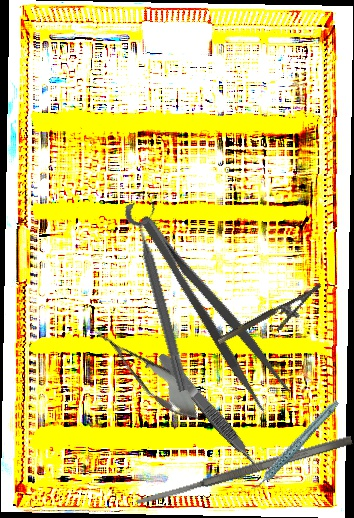Dressing Forceps: (133, 200, 294, 415)
Fixation Ring: (122, 197, 206, 394)
Handpiece: (234, 398, 354, 492)
Micro Scissor: (84, 316, 212, 432)
Needle Holder: (216, 282, 331, 359)
Spatula Surgical: (134, 434, 354, 508)
Tissue Forceps: (155, 349, 265, 477)
